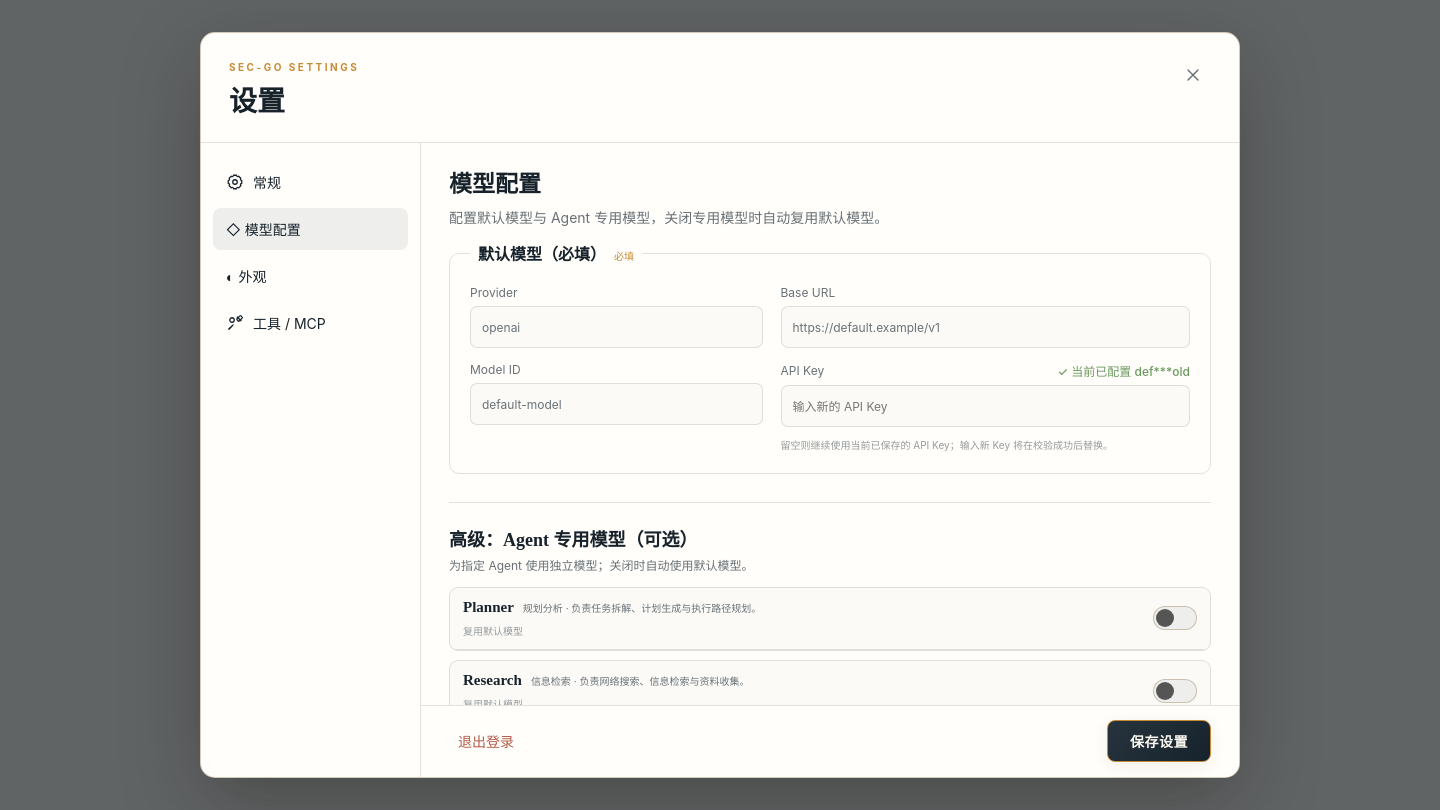
it: SettingsPanel model settings › refreshes backend masks and clears plaintext after a successful replacement
The width and height of the screenshot is (1440, 810).
Type "new-default-secret" into the password field named "默认模型（必填） API Key" at (985, 406), box [780,385,1190,427]
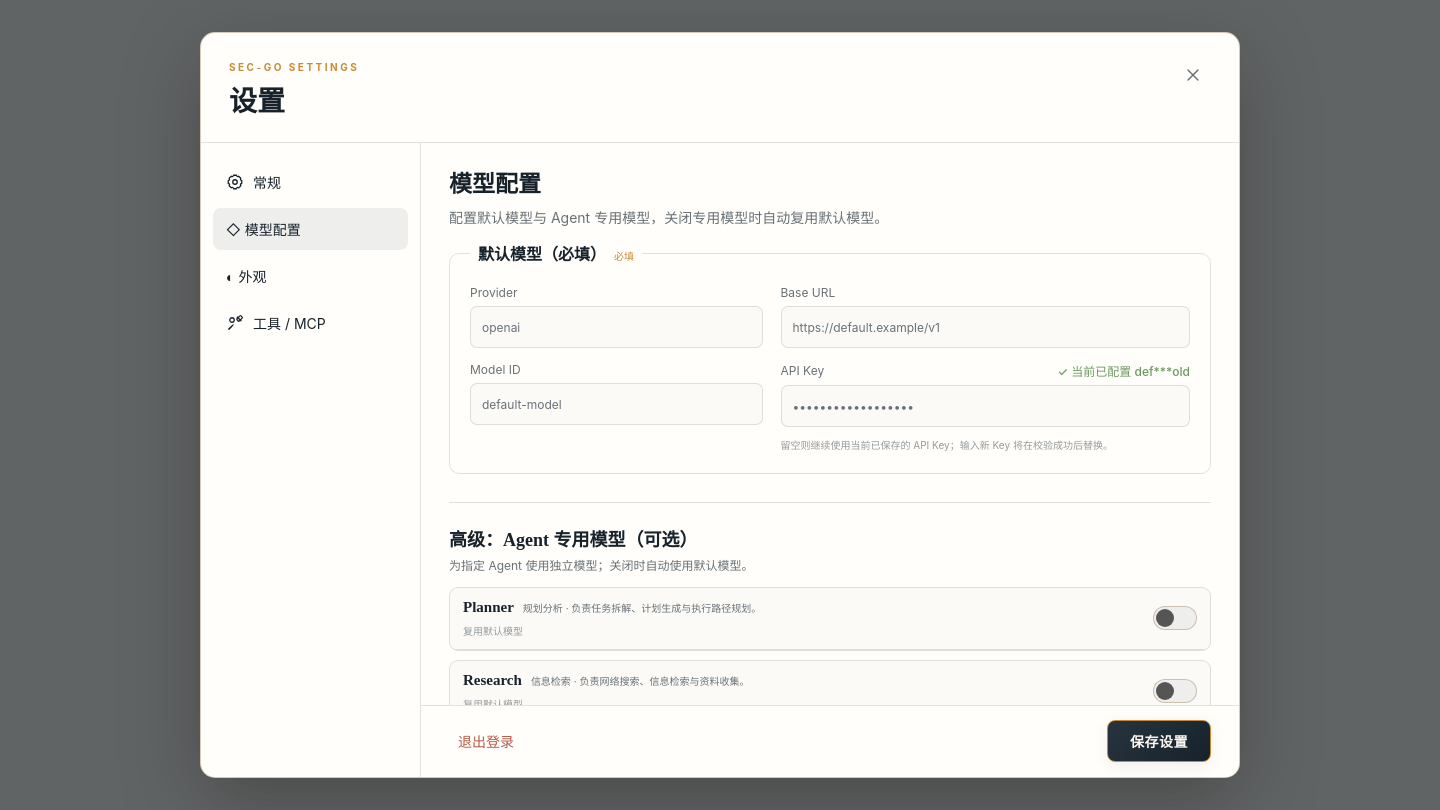
Click the button "保存设置" at (1159, 741), box [1107,720,1211,762]
(page scrolled)
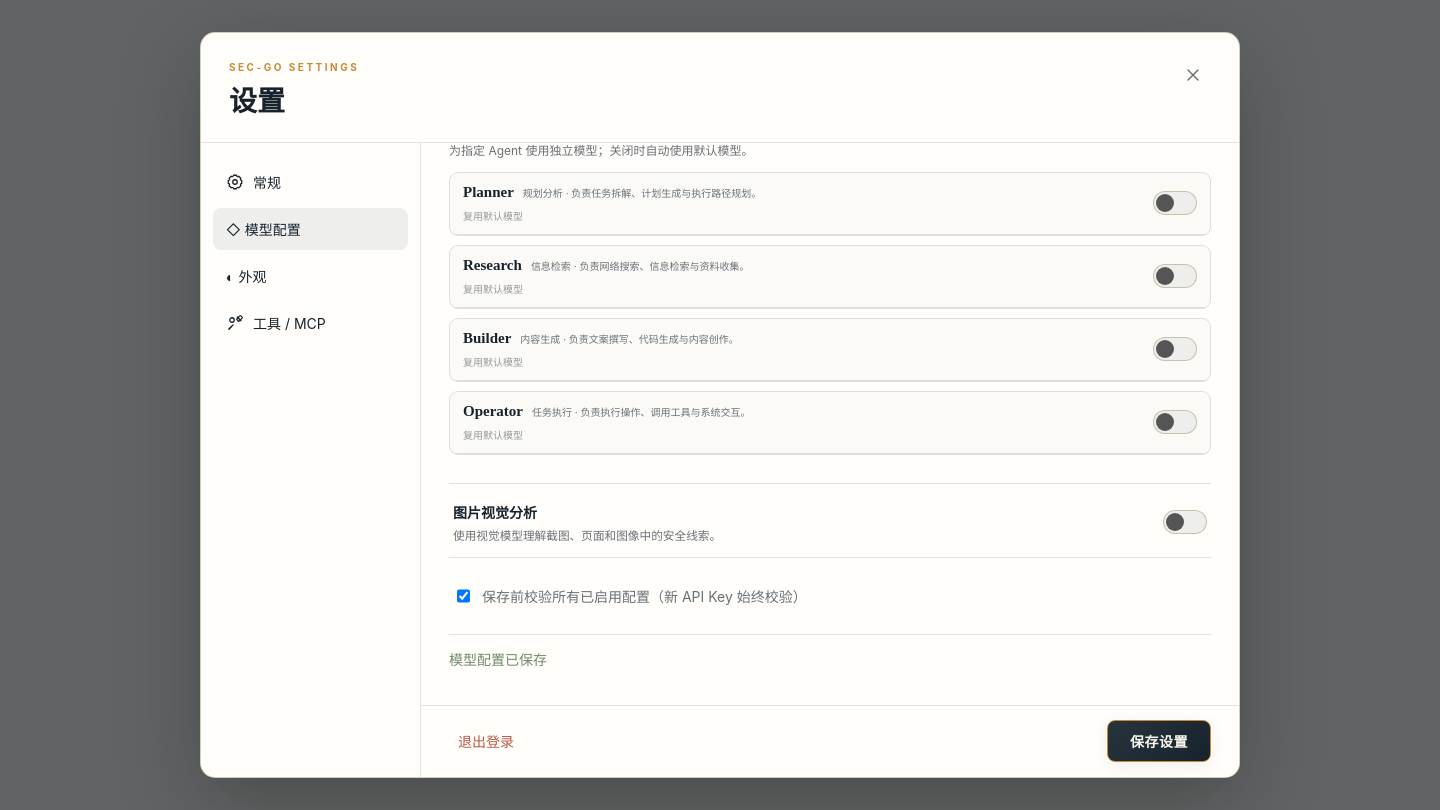
Now the text "模型配置已保存" is shown, box [449,651,547,668]
